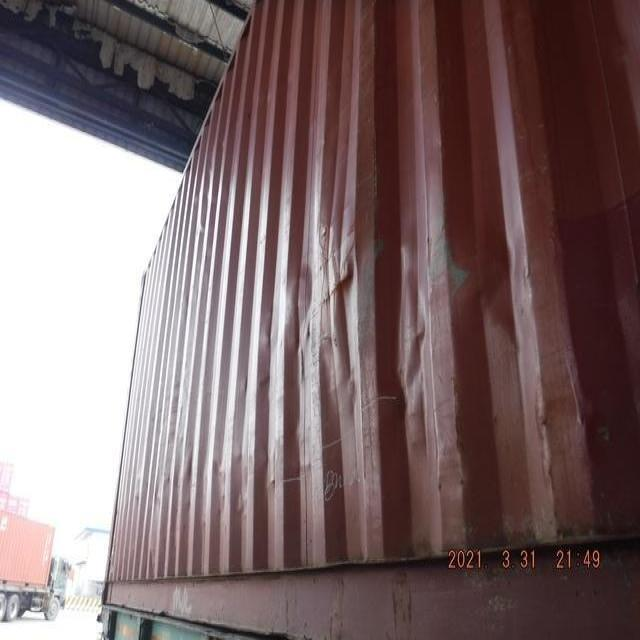dent: (280, 185, 381, 414), (367, 237, 455, 456)
